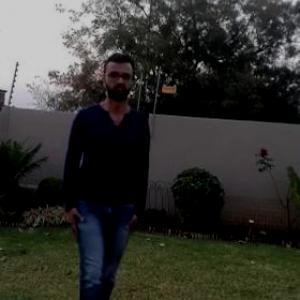follow: (66, 53, 157, 299)
